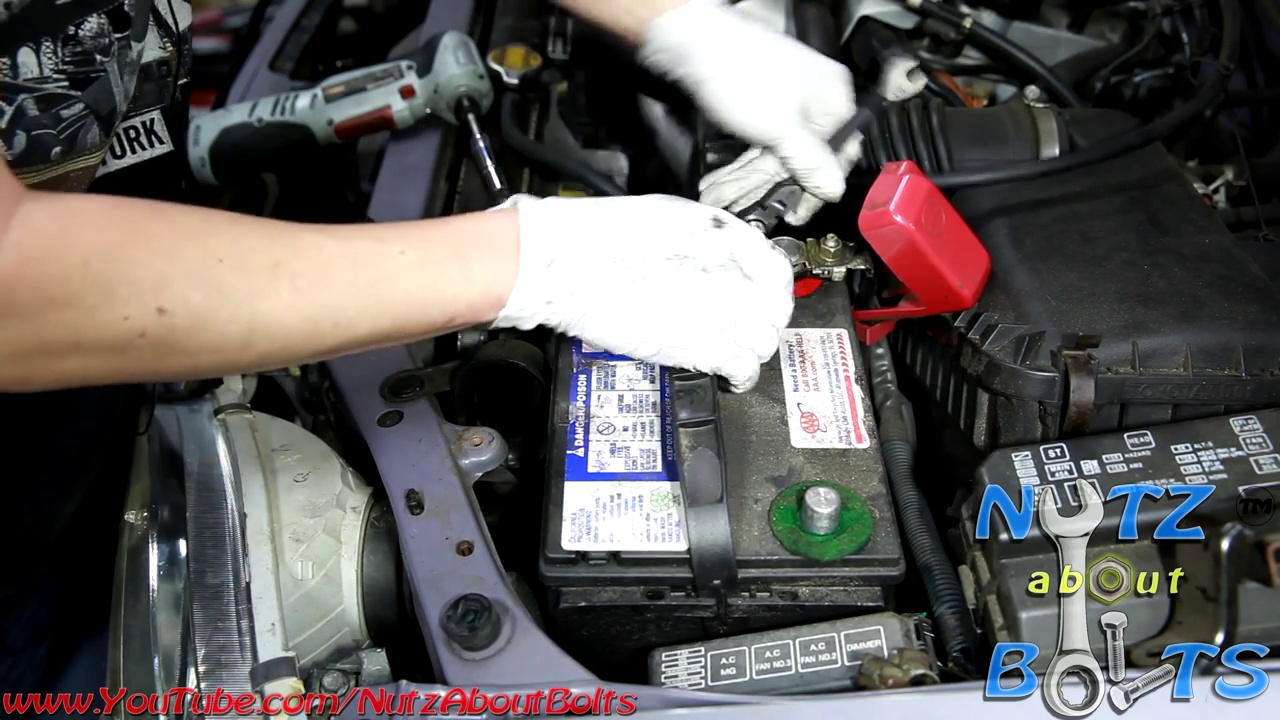battery: (547, 207, 928, 605)
neg_disconnected: (774, 470, 870, 545)
pos_touched: (716, 130, 927, 304)
